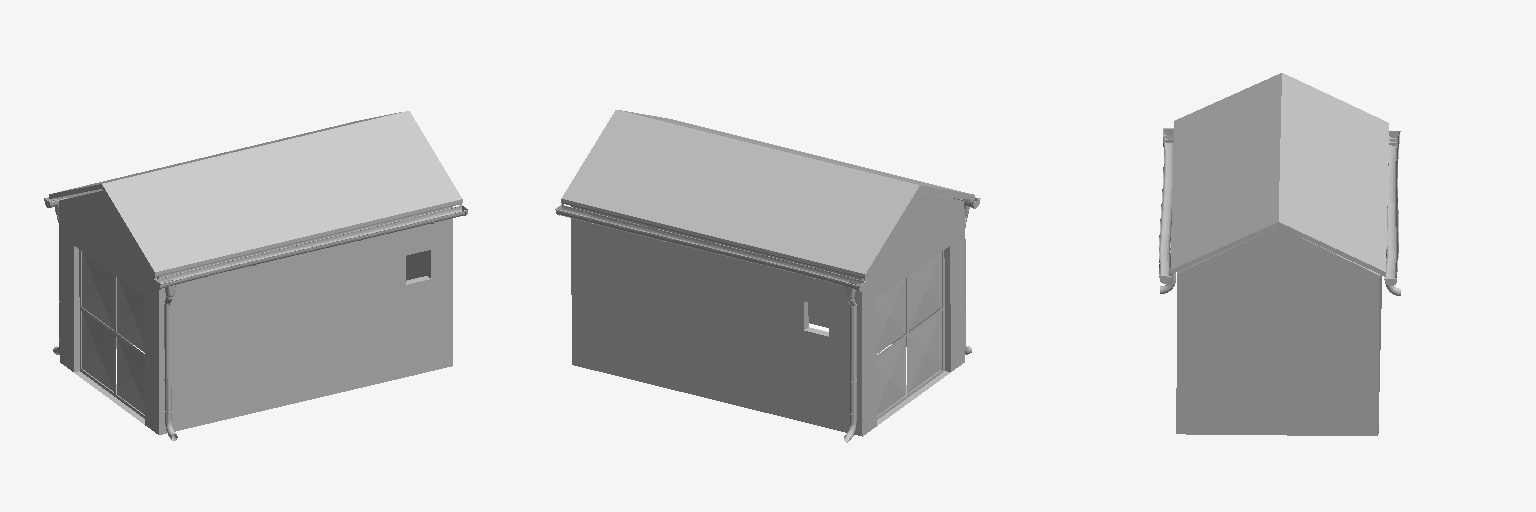
File: garage.obj
3 renders of one model, left to right at view 1: azimuth 30°, elevation 25°; view 2: azimuth 150°, elevation 25°; view 3: azimuth 270°, elevation 25°, orthographic.
Parts seen in each view (by area): view 1: zid, crijep_krov, door, rine; view 2: zid, crijep_krov, door, rine; view 3: zid, crijep_krov, rine.
Part boxes in pixels (x1,y1,x2,y2): zid: (59, 191, 452, 434); crijep_krov: (49, 111, 462, 276); door: (79, 250, 144, 418); rine: (44, 197, 467, 440); zid: (571, 192, 964, 436); crijep_krov: (561, 110, 974, 278); door: (876, 251, 944, 419); rine: (555, 197, 980, 442); zid: (1176, 227, 1381, 435); crijep_krov: (1170, 73, 1388, 276); rine: (1159, 128, 1400, 295).
Size of the model in its own units: 11.53 by 7.78 by 7.88.